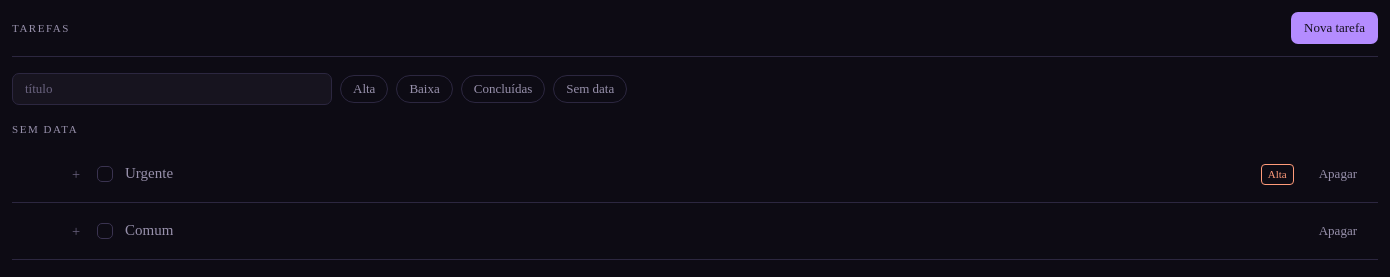
Test case: TasksPanel › filtra por prioridade alta
The width and height of the screenshot is (1390, 277).
Click the button "Alta": (364,89) [340, 75, 388, 103]
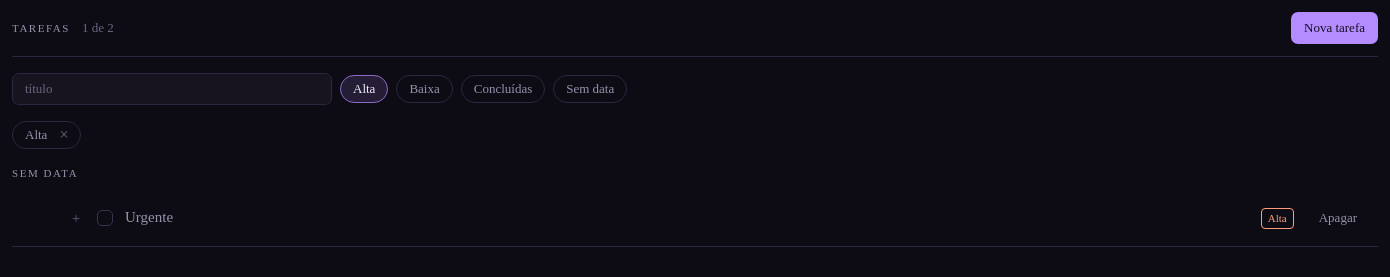
expect the text "Urgente" is shown: met, box [125, 206, 173, 230]
expect the button "Comum" is gone: met
